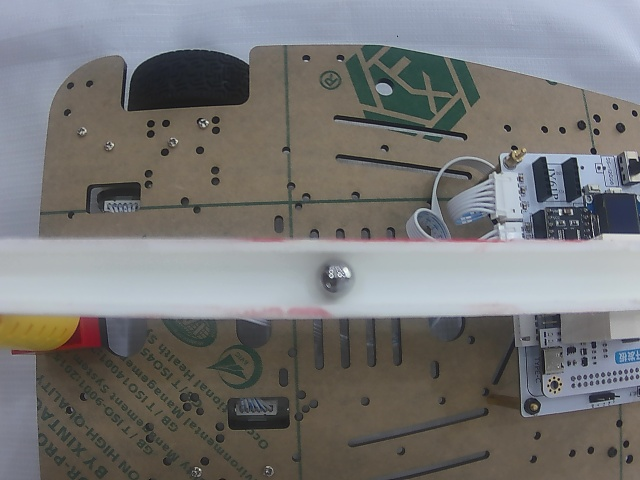steelball: (314, 259, 356, 298)
